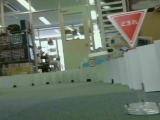stop: (106, 9, 149, 48)
